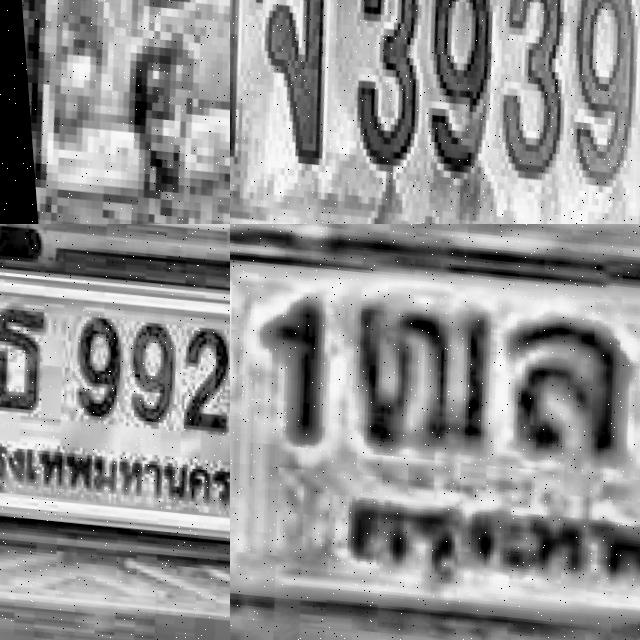license-plate: (230, 224, 640, 640), (230, 0, 640, 224), (0, 238, 230, 589), (0, 0, 230, 224)
